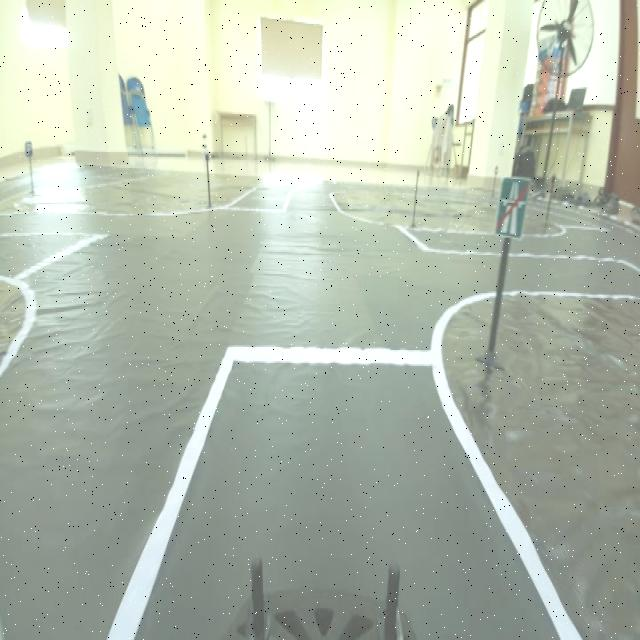highway_exit: (496, 166, 528, 252)
